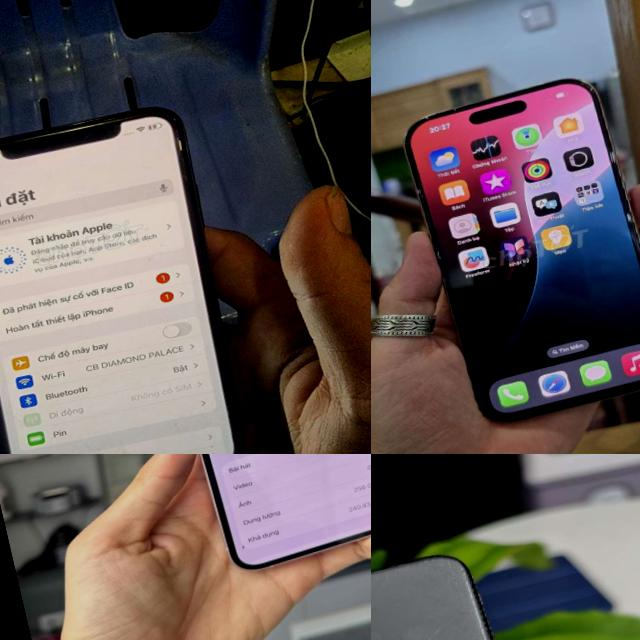gen_12_13: (151, 454, 371, 574)
gen_16: (391, 61, 640, 450)
gen_x_xs: (0, 97, 258, 454), (371, 531, 612, 640)
